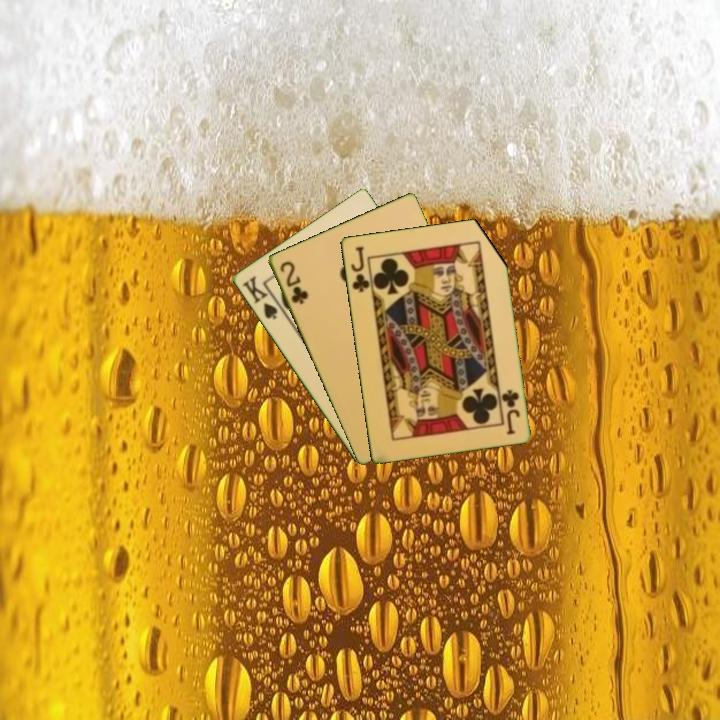2c: (276, 257, 311, 307)
Jc: (347, 242, 372, 295), (498, 386, 522, 437)
Ks: (239, 272, 285, 322)
